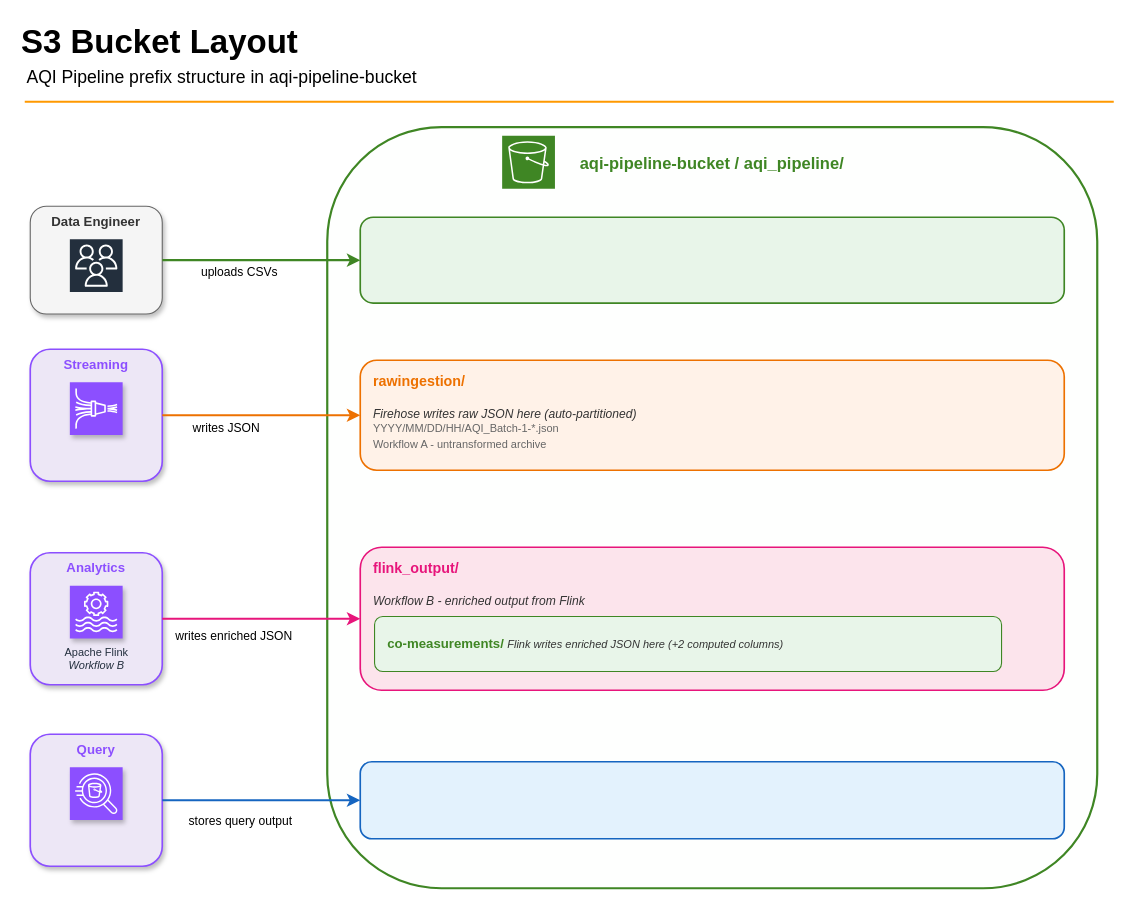
Some shapes in this 1137 by 908 pixel diagram are drawn without their labels. Each missing label, with the centre of its shape:
"Amazon Athena query output" goes at (96,795).
"Amazon S3" goes at (528,162).
"athena-results/ Athena stores query output here (both raw + enriched queries)" goes at (712,799).
"Data Firehose Workflow A" goes at (96,410).
"source_data/ Upload AQI CSVs here openaq_location_6946_measurment.csv" goes at (712,259).
